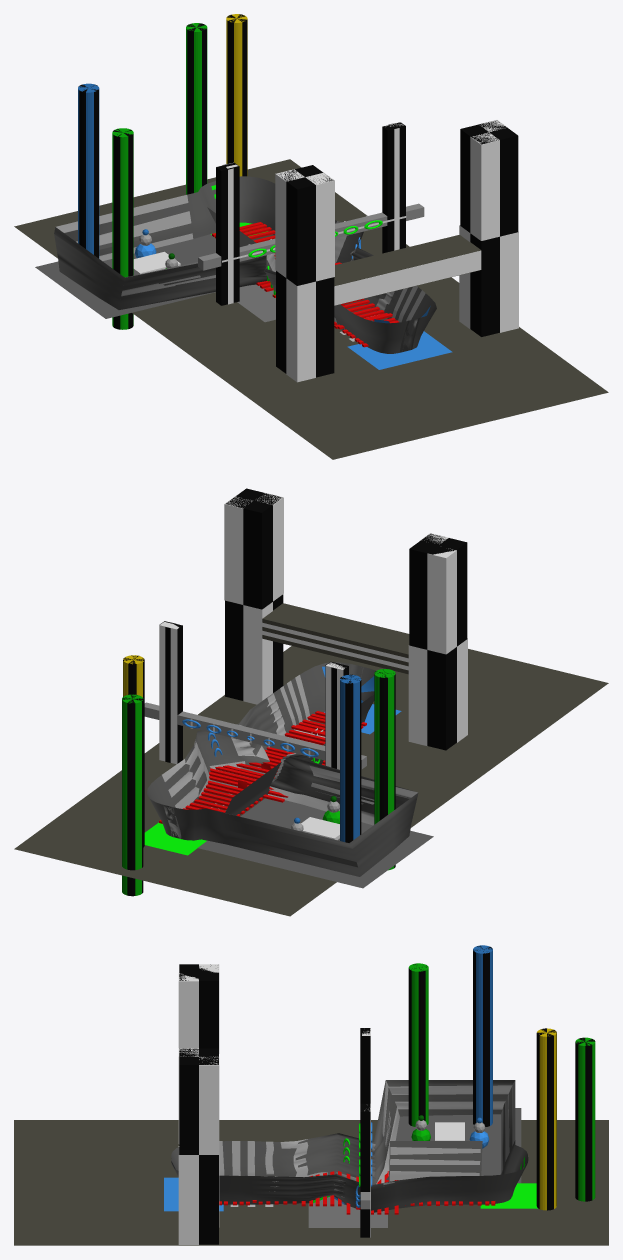
Rendered from JCVR_linear_track.dae.
3 views of the same model, one above another, from view 1: azimuth 30°, elevation 25°; view 2: azimuth 150°, elevation 25°; view 3: azimuth 270°, elevation 25° (orthographic). The views are drawn at different scales.
Parts seen in each view (by area): view 1: floor1_p, walls1_pic, Cube_003, Cube_002, Cube, Cube_001, walls2_pic, Cube_004, Cube_016, floor3_p, Cube_006, Cube_005 (+14 smaller); view 2: floor1_p, walls1_pic, Cube_003, Cube, Cube_002, Cube_001, walls2_pic, floor3_p, Cube_016, Cylinder_007, Cylinder_006, Cube_007 (+16 smaller); view 3: floor1_p, walls1_pic, walls2_pic, Cube, Cube_001, floor3_p, Cylinder_002, Cylinder_005, Cylinder_007, Cylinder_004, Cylinder_006, Cube_003 (+10 smaller).
Part boxes in pixels (bbox=[...]): floor1_p: bbox=[14, 159, 608, 459]; walls1_pic: bbox=[54, 176, 436, 353]; Cube_003: bbox=[276, 165, 334, 377]; Cube_002: bbox=[275, 169, 334, 382]; Cube: bbox=[460, 120, 518, 336]; Cube_001: bbox=[459, 120, 518, 332]; walls2_pic: bbox=[56, 195, 425, 329]; Cube_004: bbox=[334, 250, 481, 305]; Cube_016: bbox=[334, 235, 481, 286]; floor3_p: bbox=[35, 234, 215, 318]; Cube_006: bbox=[216, 162, 239, 305]; Cube_005: bbox=[382, 122, 405, 253]; floor1_p: bbox=[14, 646, 608, 916]; walls1_pic: bbox=[147, 662, 418, 876]; Cube_003: bbox=[409, 533, 467, 750]; Cube: bbox=[225, 488, 283, 700]; Cube_002: bbox=[408, 533, 467, 745]; Cube_001: bbox=[224, 493, 283, 704]; walls2_pic: bbox=[162, 675, 417, 843]; floor3_p: bbox=[198, 798, 433, 888]; Cube_016: bbox=[262, 603, 409, 658]; Cylinder_007: bbox=[122, 694, 143, 895]; Cylinder_006: bbox=[122, 694, 143, 896]; Cube_007: bbox=[144, 702, 366, 769]; floor1_p: bbox=[14, 1120, 608, 1245]; walls1_pic: bbox=[171, 1080, 528, 1212]; walls2_pic: bbox=[219, 1081, 515, 1197]; Cube: bbox=[179, 1048, 218, 1244]; Cube_001: bbox=[178, 1048, 219, 1244]; floor3_p: bbox=[395, 1108, 521, 1183]; Cylinder_002: bbox=[536, 1028, 556, 1210]; Cylinder_005: bbox=[537, 1028, 556, 1210]; Cylinder_007: bbox=[575, 1037, 595, 1201]; Cylinder_004: bbox=[409, 963, 428, 1126]; Cylinder_006: bbox=[575, 1037, 595, 1201]; Cube_003: bbox=[179, 964, 218, 1048].
Size of the model in its own units: 165 by 300 by 113.
